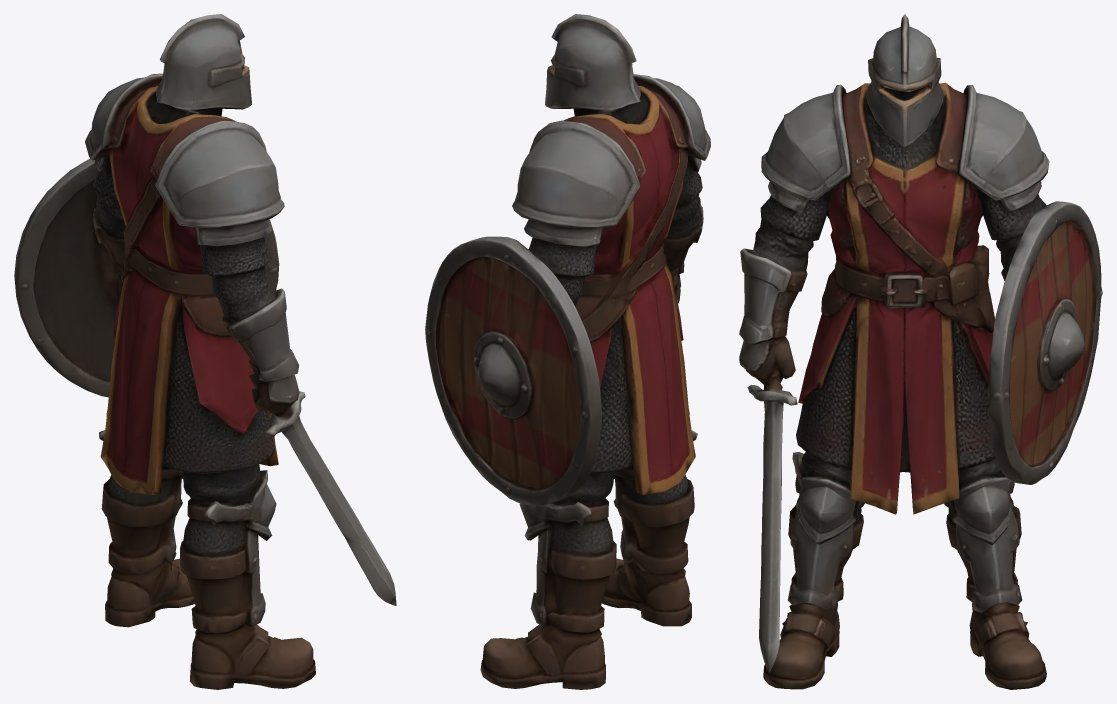
Rendered from model-char-knight-01.glb.
3 renders of one model, left to right at view 1: azimuth 30°, elevation 25°; view 2: azimuth 150°, elevation 25°; view 3: azimuth 270°, elevation 25°, orthographic. The views are drawn at different scales.
Parts seen in each view (by area): view 1: tripo_node_27633700-35cf-48fd-94e0-fad7b993be69; view 2: tripo_node_27633700-35cf-48fd-94e0-fad7b993be69; view 3: tripo_node_27633700-35cf-48fd-94e0-fad7b993be69.
Boxes of the visible parts, x1,y1,x2,y2 form: tripo_node_27633700-35cf-48fd-94e0-fad7b993be69: (14, 14, 396, 689); tripo_node_27633700-35cf-48fd-94e0-fad7b993be69: (425, 14, 710, 689); tripo_node_27633700-35cf-48fd-94e0-fad7b993be69: (739, 14, 1102, 689).
Bounding box in the file's own units: 0.6803 × 1.8 × 0.9184.
Materials: 1 (1 with a texture image).
